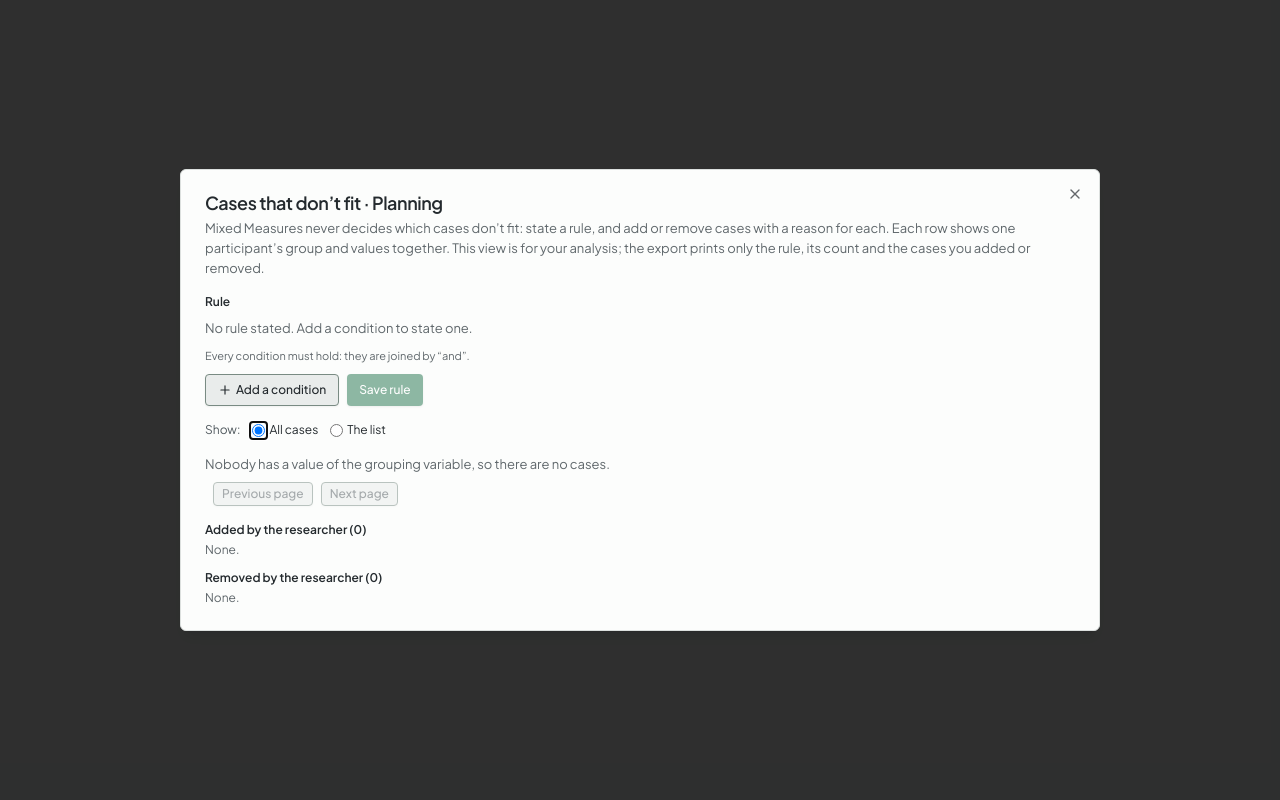
Test: #1661 — an unfinished line is counted, never printed as “” and never dropped unsaid › finishing the line drops the count (the positive control)
The width and height of the screenshot is (1280, 800).
Click the button "Add a condition": click(272, 390) [205, 374, 339, 406]
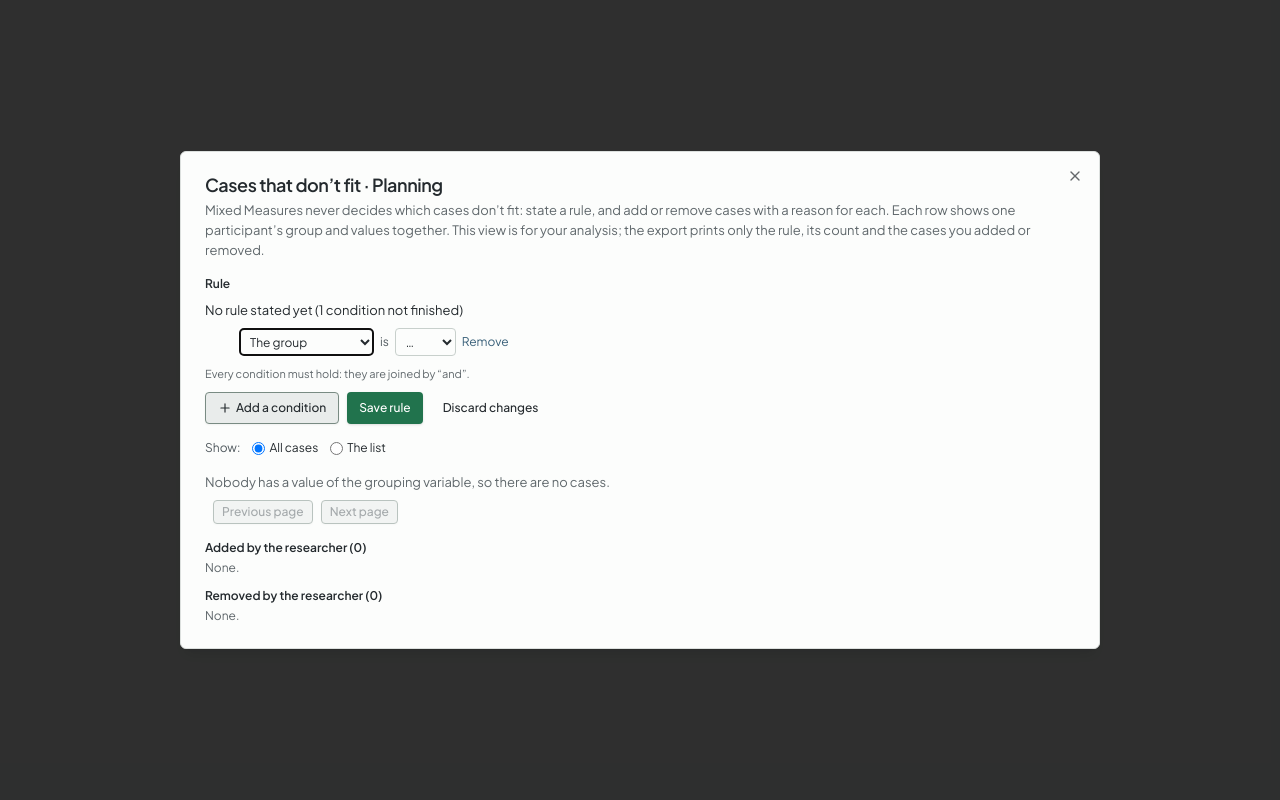
Expected: the text "No rule stated yet (1 condition not finished)" is shown, [205, 302, 463, 318]
Select "Low" in the dropdown named "Condition 1: group": (425, 342) [395, 328, 456, 356]
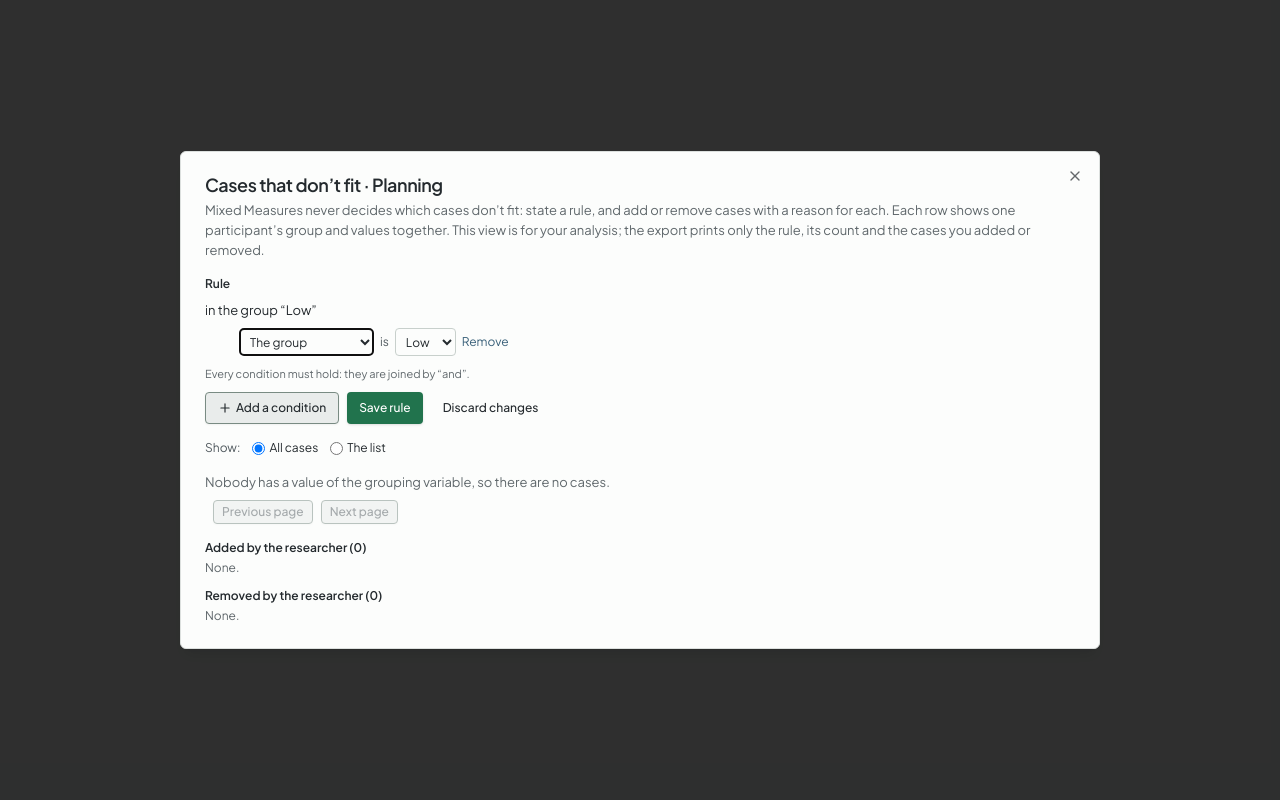
Expected: the text "in the group “Low”" is shown, [205, 302, 317, 318]
